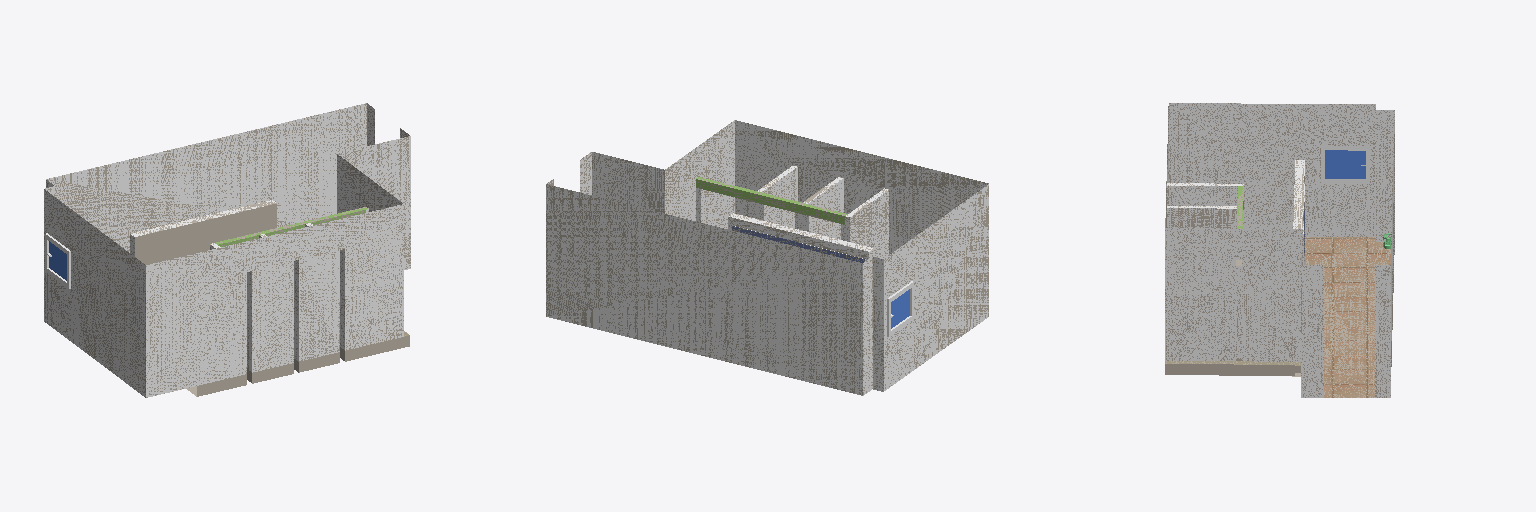
3 renders of one model, left to right at view 1: azimuth 30°, elevation 25°; view 2: azimuth 150°, elevation 25°; view 3: azimuth 270°, elevation 25°, orthographic.
Parts seen in each view (by area): view 1: Mesh12 Group1 Model, Mesh9 ventana3_1 Group1 Model; view 2: Mesh12 Group1 Model, Mesh9 ventana3_1 Group1 Model; view 3: Mesh12 Group1 Model, Mesh9 ventana3_1 Group1 Model.
Boxes of the visible parts, box(x1,y1,x2,y2) form: Mesh12 Group1 Model: box(44, 103, 410, 397); Mesh9 ventana3_1 Group1 Model: box(45, 233, 70, 288); Mesh12 Group1 Model: box(546, 120, 988, 395); Mesh9 ventana3_1 Group1 Model: box(887, 281, 913, 336); Mesh12 Group1 Model: box(1165, 103, 1394, 397); Mesh9 ventana3_1 Group1 Model: box(1321, 146, 1369, 183).
Size of the model in its own units: 7.87 by 3.25 by 4.7.
10 materials, 2 textured.